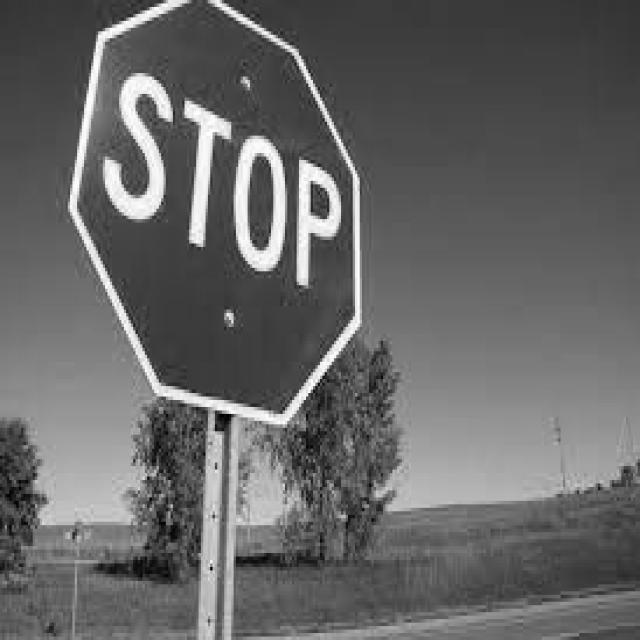stop sign: (79, 1, 358, 424)
